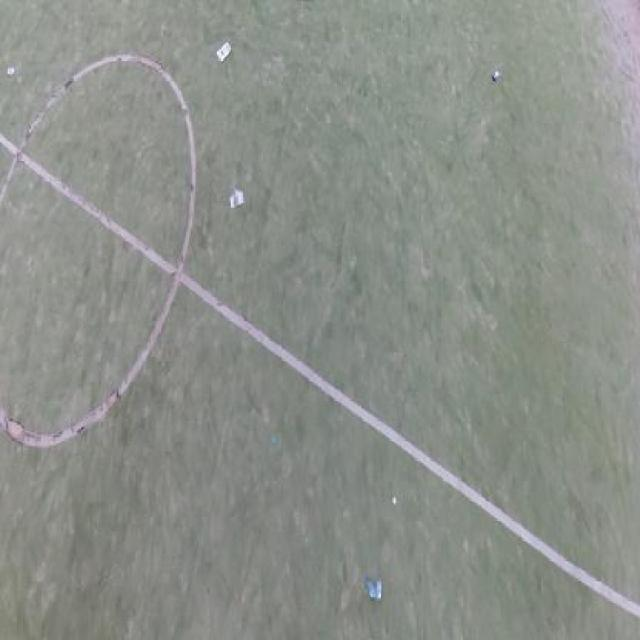Garbage: (365, 577, 382, 601), (215, 43, 232, 64), (229, 188, 245, 209), (491, 70, 499, 83), (7, 68, 14, 75), (272, 438, 275, 445), (393, 496, 395, 502)
